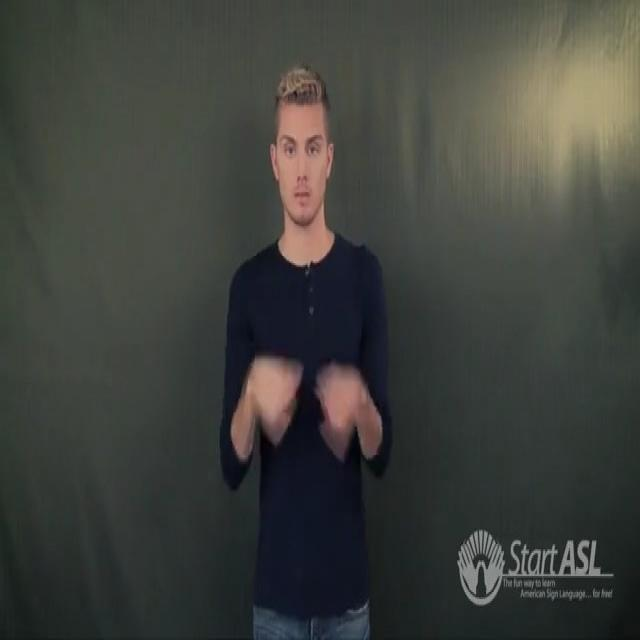eggs: (241, 340, 377, 480)
